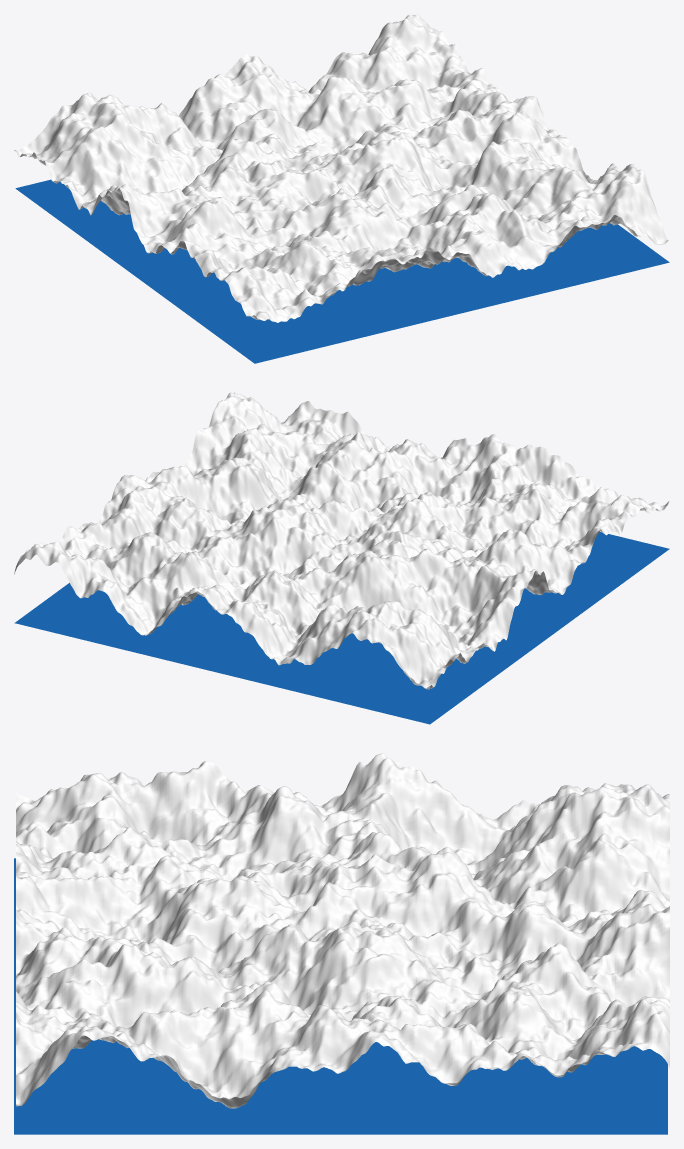
The model's file is data.fbx.
3 views of the same model, one above another, from view 1: azimuth 30°, elevation 25°; view 2: azimuth 150°, elevation 25°; view 3: azimuth 270°, elevation 25° (orthographic). The views are drawn at different scales.
Visible parts, largest first — view 1: LandScape, Water; view 2: LandScape, Water; view 3: LandScape, Water.
Part boxes in pixels (x1=…): LandScape: x1=14, y1=14, x2=668, y2=322; Water: x1=15, y1=179, x2=669, y2=363; LandScape: x1=14, y1=392, x2=669, y2=689; Water: x1=14, y1=532, x2=669, y2=724; LandScape: x1=16, y1=753, x2=669, y2=1108; Water: x1=14, y1=858, x2=667, y2=1134.
Bounding box in the file's own units: 24020 × 4737 × 24070.
